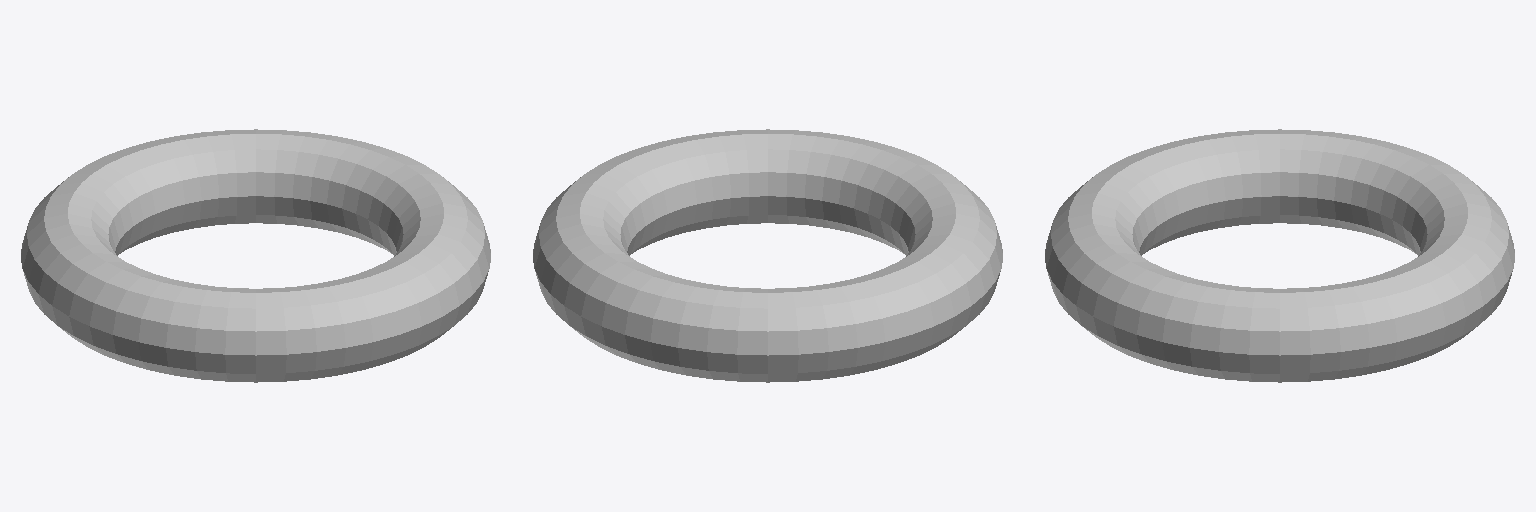
The model's file is donut.obj.
3 views of the same model, side by side, from view 1: azimuth 30°, elevation 25°; view 2: azimuth 150°, elevation 25°; view 3: azimuth 270°, elevation 25° (orthographic).
Parts seen in each view (by area): view 1: Torus.001; view 2: Torus.001; view 3: Torus.001.
Part boxes in pixels (x1,y1,x2,y2): Torus.001: (21,129,490,382); Torus.001: (533,129,1002,382); Torus.001: (1045,129,1514,382).
Bounding box in the file's own units: 0.625 × 0.125 × 0.625.